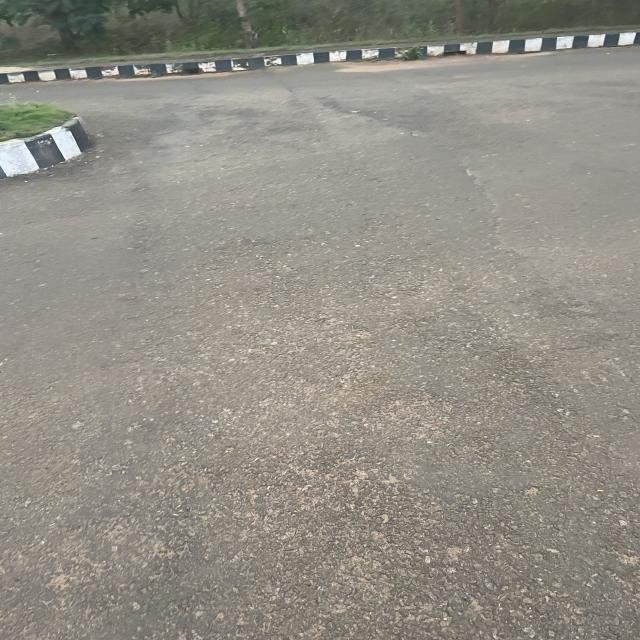D01: (455, 155, 544, 261)
D43: (121, 262, 600, 636)
